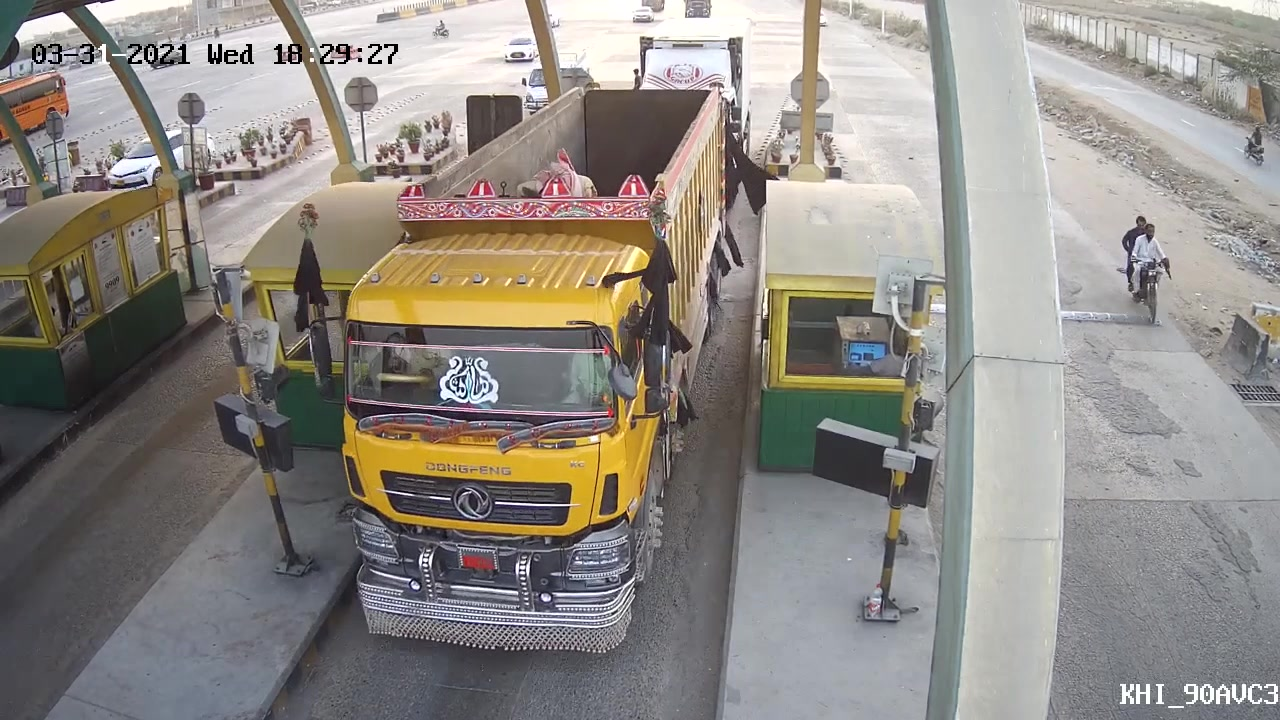F6: (342, 87, 736, 660)
